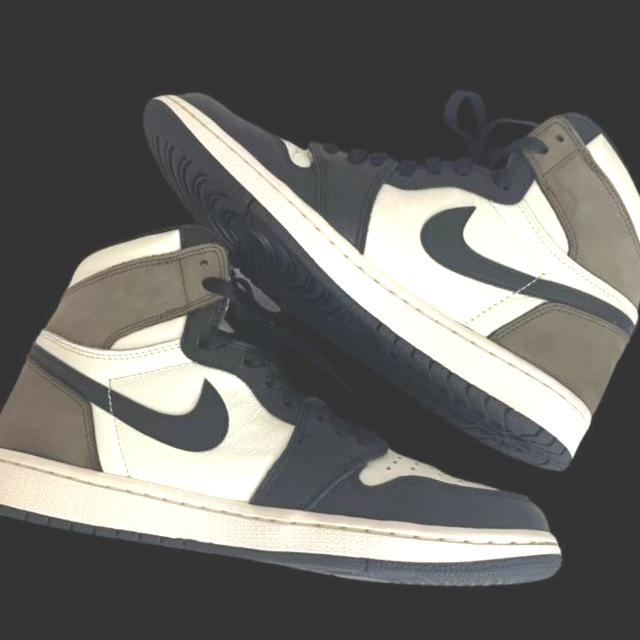nike_original_jordan: (0, 197, 612, 620), (91, 29, 640, 484)
